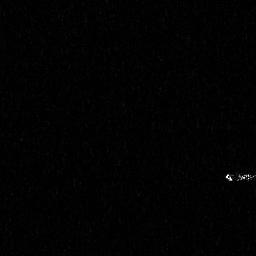ship: (221, 169, 256, 185)
